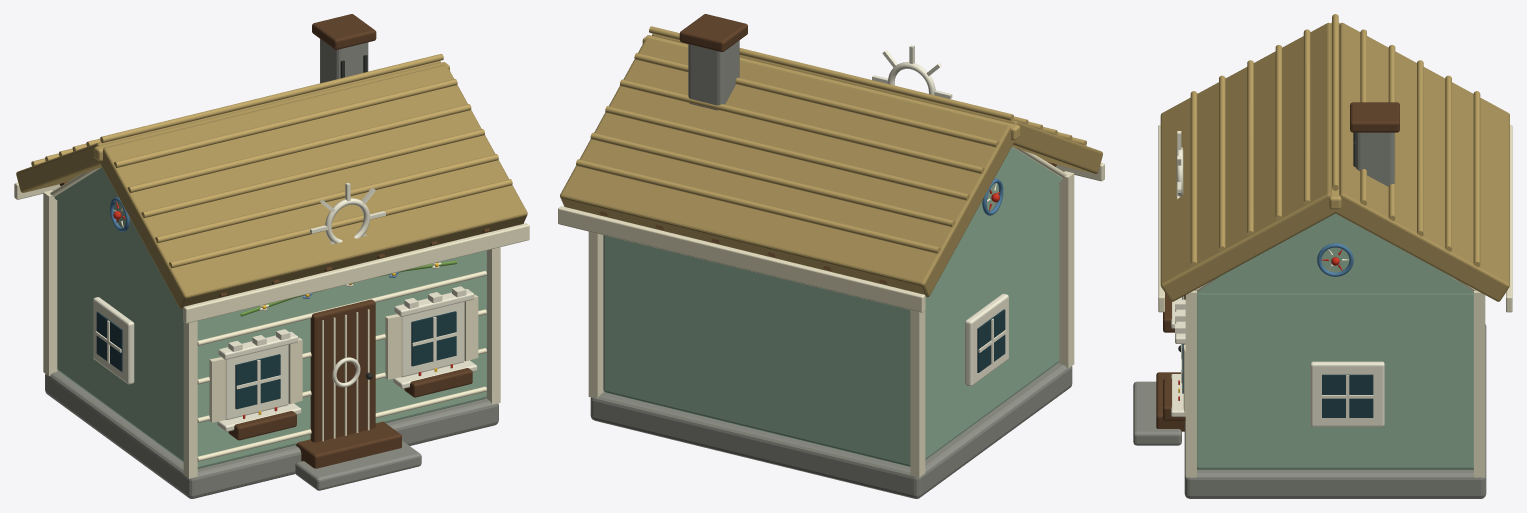
File: house_green.glb
The picture shows the model from 3 angles, left to right: view 1: azimuth 30°, elevation 25°; view 2: azimuth 150°, elevation 25°; view 3: azimuth 270°, elevation 25°; orthographic projection. The views are drawn at different scales.
Visible parts, largest first — view 1: house_green; view 2: house_green; view 3: house_green.
Boxes of the visible parts, x1,y1,x2,y2 form: house_green: (14,14,529,498); house_green: (558,14,1104,498); house_green: (1133,14,1512,498).
Size of the model in its own units: 6.2 by 5.84 by 5.63.
